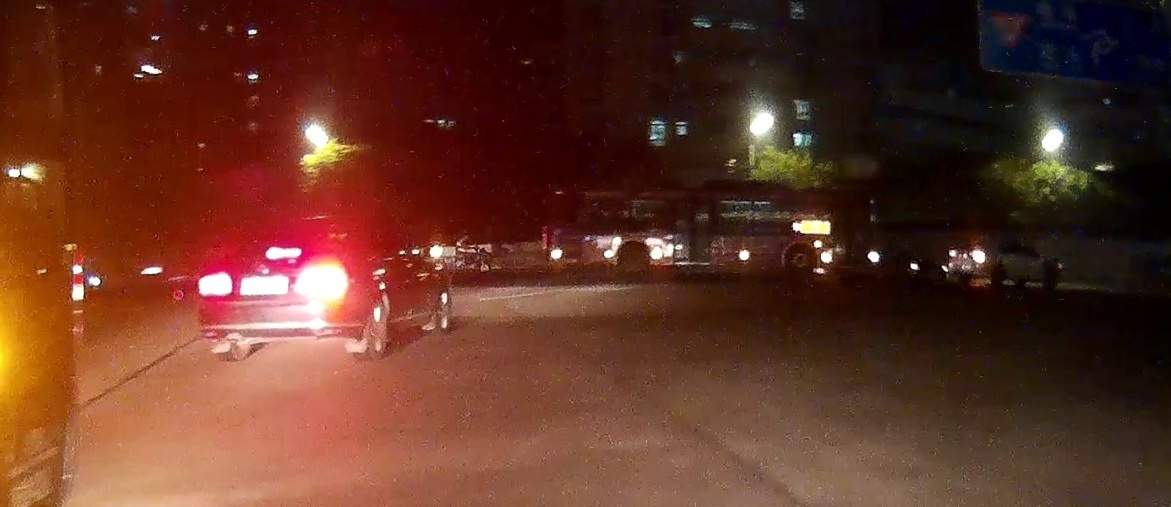L_light: (197, 269, 232, 297)
R_light: (294, 260, 350, 302)
T_light: (263, 246, 302, 259)
night-brake: (196, 213, 373, 361)
